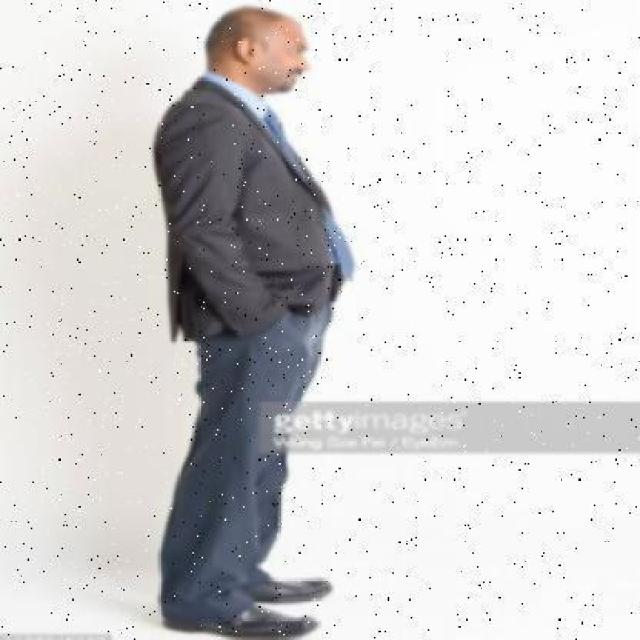person: (147, 3, 356, 640)
